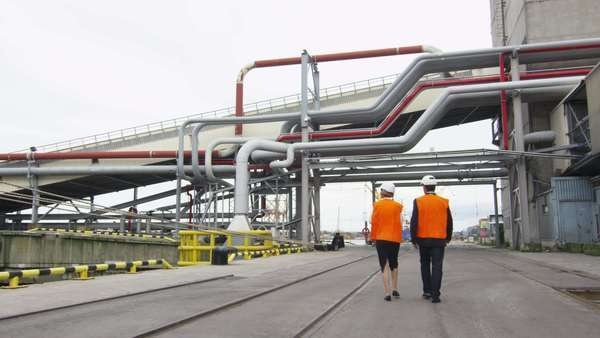helmet: (420, 174, 438, 186), (380, 182, 395, 194)
person with full safety: (410, 174, 458, 301), (371, 181, 404, 303)
safety vest: (416, 196, 452, 241), (372, 198, 405, 244)
